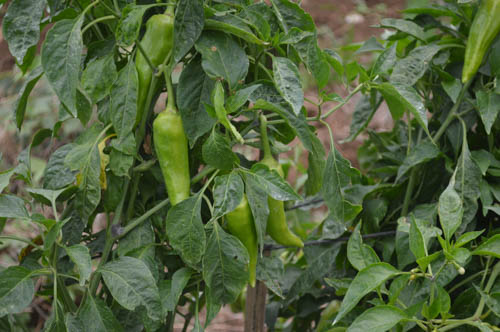ChiliPepper: (132, 14, 174, 123), (261, 162, 303, 249), (152, 114, 189, 210), (225, 195, 260, 286), (461, 3, 498, 85)
